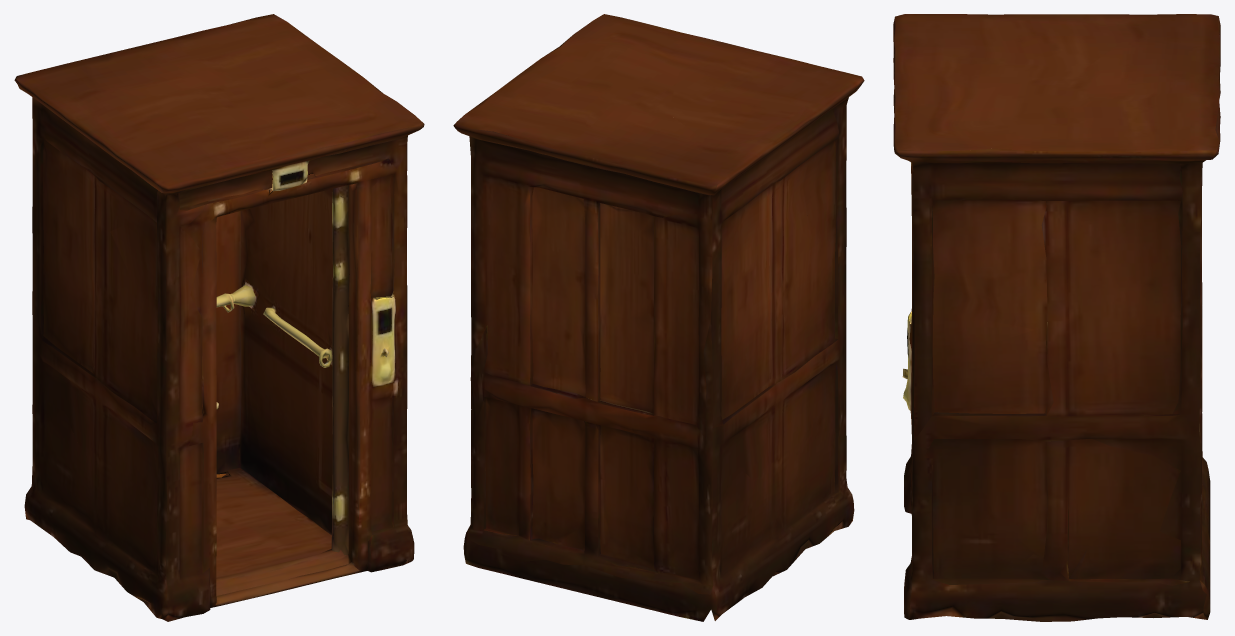
Rendered from cabina_ascensor.glb.
The picture shows the model from 3 angles, left to right: view 1: azimuth 30°, elevation 25°; view 2: azimuth 150°, elevation 25°; view 3: azimuth 270°, elevation 25°; orthographic projection. The views are drawn at different scales.
Visible parts, largest first — view 1: geometry_0; view 2: geometry_0; view 3: geometry_0.
Part boxes in pixels (<box>): geometry_0: <box>14,14,424,621</box>; geometry_0: <box>453,14,864,621</box>; geometry_0: <box>893,14,1220,621</box>.
Size of the model in its own units: 1.5 by 2.4 by 1.5.
1 material, 1 textured.
